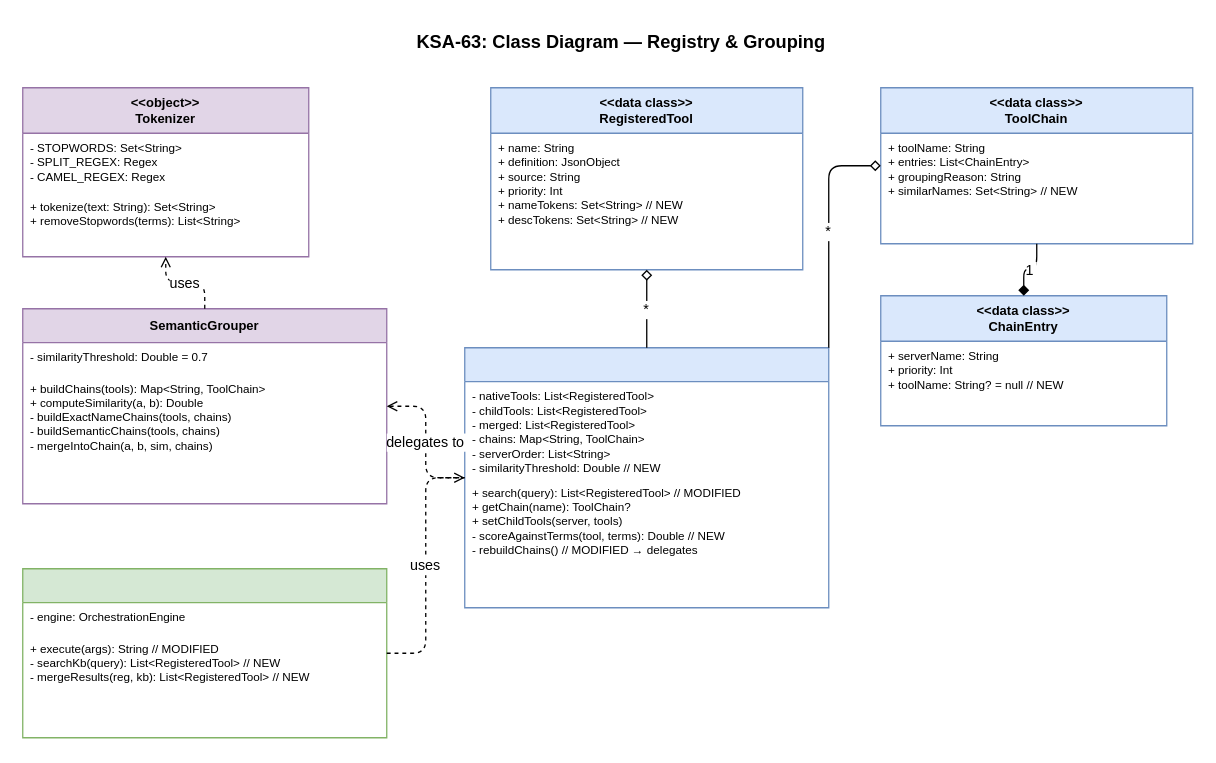
The diagram is 1216 pixels wide and 763 high, and some of its shapes have lost their labels. The box of each missing label's shape, as (x1, y1, x2, y2) in pixels:
FindToolsTool: (21, 567, 387, 738)
UnifiedRegistry: (463, 346, 829, 608)
